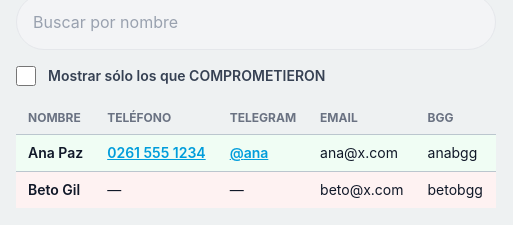
city users › shows a referrer every column, paid rows colored, and filters the committed
Expected: the text "Ana Paz" is shown, [16, 134, 95, 172]
Expected: the column heading "Email" is shown, [308, 102, 416, 134]
Click the checkbox labelled "Mostrar sólo los que COMPROMETIERON" at {"x": 26, "y": 76}, box [16, 66, 36, 86]
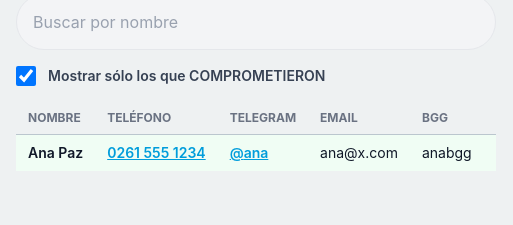
Expected: the text "Ana Paz" is shown, [16, 134, 95, 171]
Result: the text "Beto Gil" is gone
